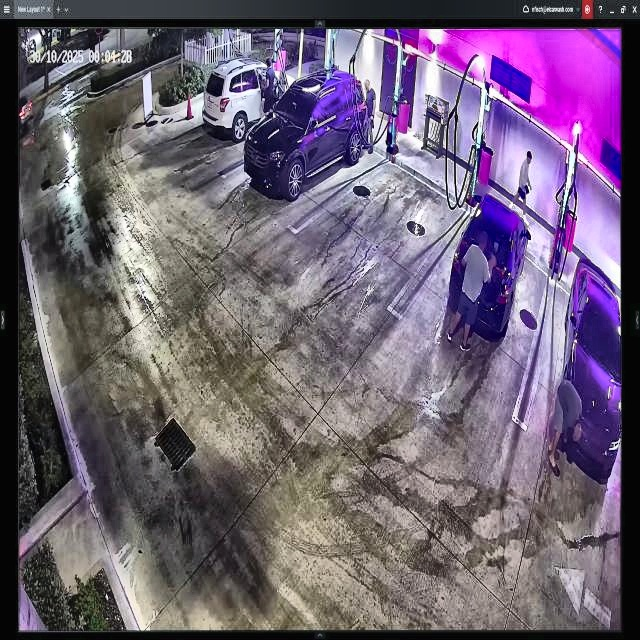Car: (246, 68, 366, 199), (452, 192, 530, 340)
